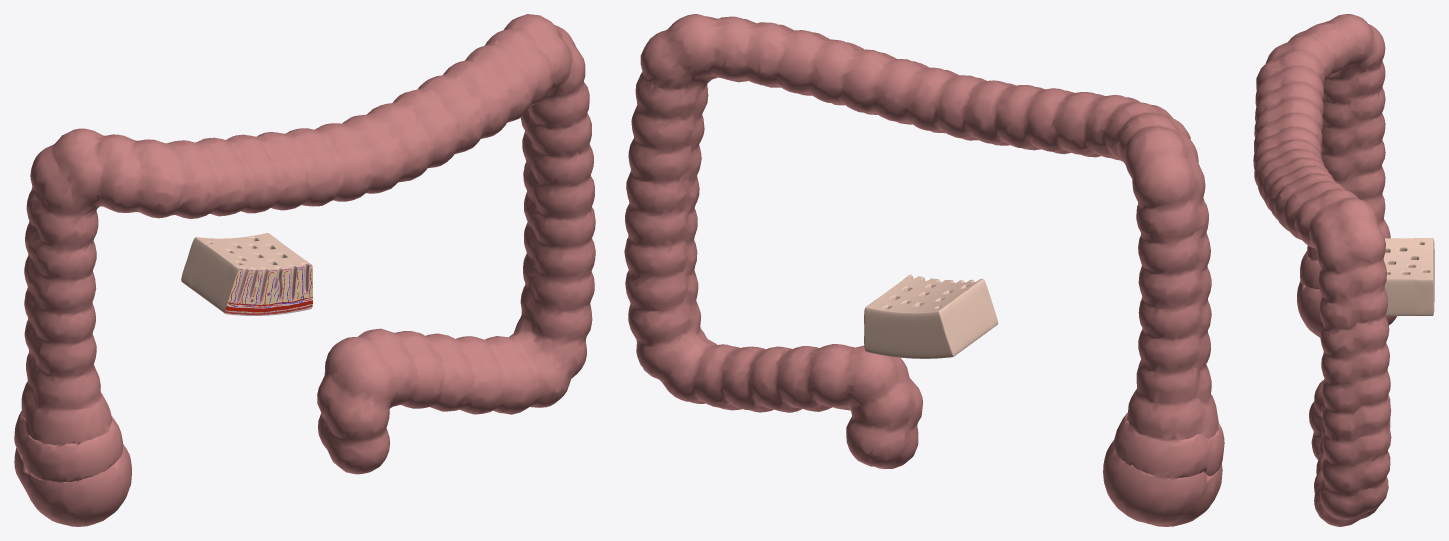
File: large-intestine.glb
The picture shows the model from 3 angles, left to right: view 1: azimuth 30°, elevation 25°; view 2: azimuth 150°, elevation 25°; view 3: azimuth 270°, elevation 25°; orthographic projection. The views are drawn at different scales.
Parts seen in each view (by area): view 1: Volume_MesherShape, Colon_SubsectionShape_14_0, CubeShape_11_0; view 2: Volume_MesherShape, Colon_SubsectionShape_14_0; view 3: Volume_MesherShape, Colon_SubsectionShape_14_0.
Part boxes in pixels (x1=…): Volume_MesherShape: x1=14, y1=14, x2=595, y2=526; Colon_SubsectionShape_14_0: x1=181, y1=233, x2=311, y2=315; CubeShape_11_0: x1=225, y1=264, x2=312, y2=315; Volume_MesherShape: x1=624, y1=14, x2=1224, y2=526; Colon_SubsectionShape_14_0: x1=864, y1=274, x2=998, y2=358; Volume_MesherShape: x1=1253, y1=14, x2=1396, y2=526; Colon_SubsectionShape_14_0: x1=1383, y1=238, x2=1434, y2=315.
Size of the model in its own units: 0.6 by 0.4077 by 0.1961.
7 materials, 1 textured.
